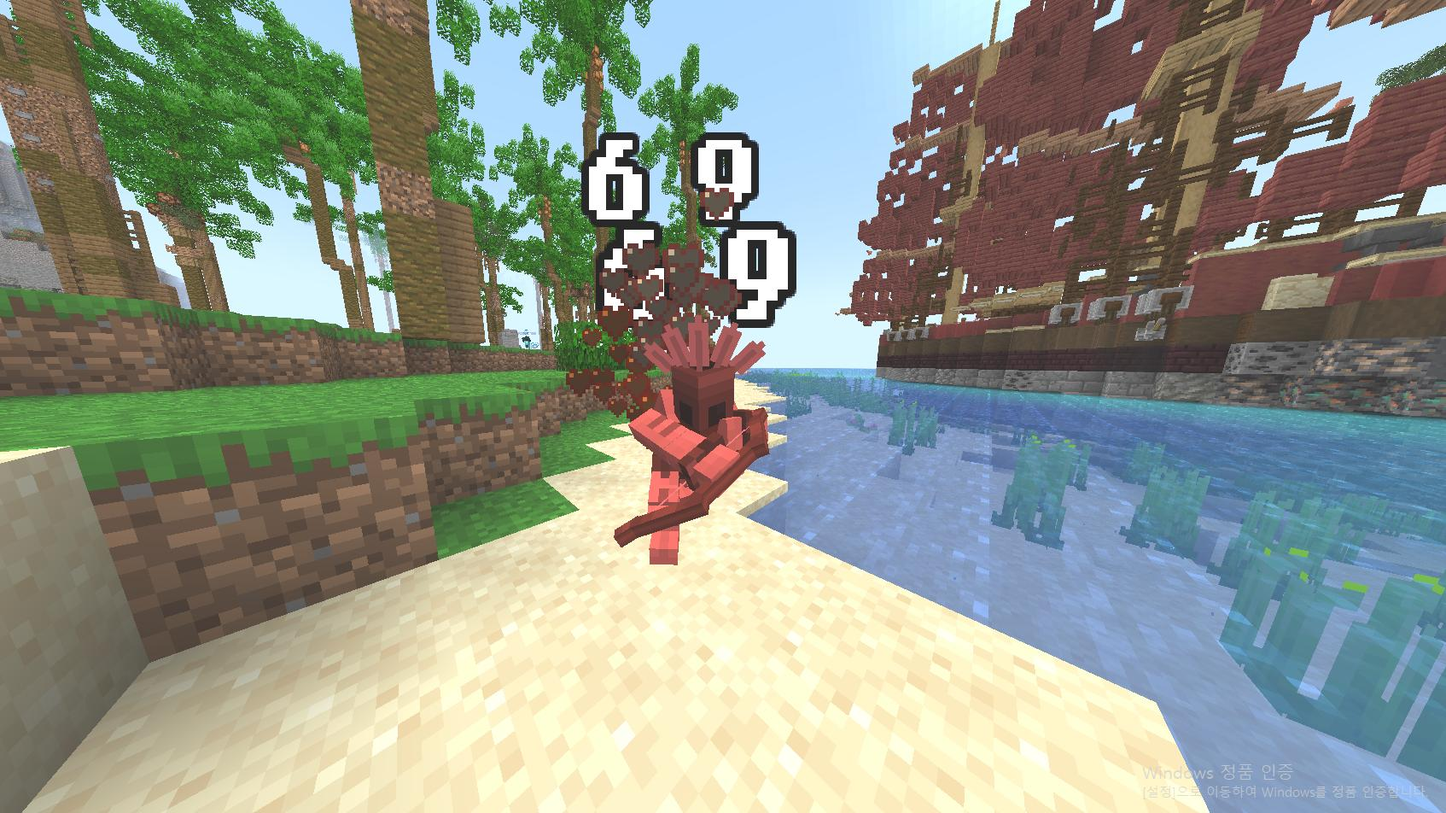bow_indian: (559, 310, 827, 584)
